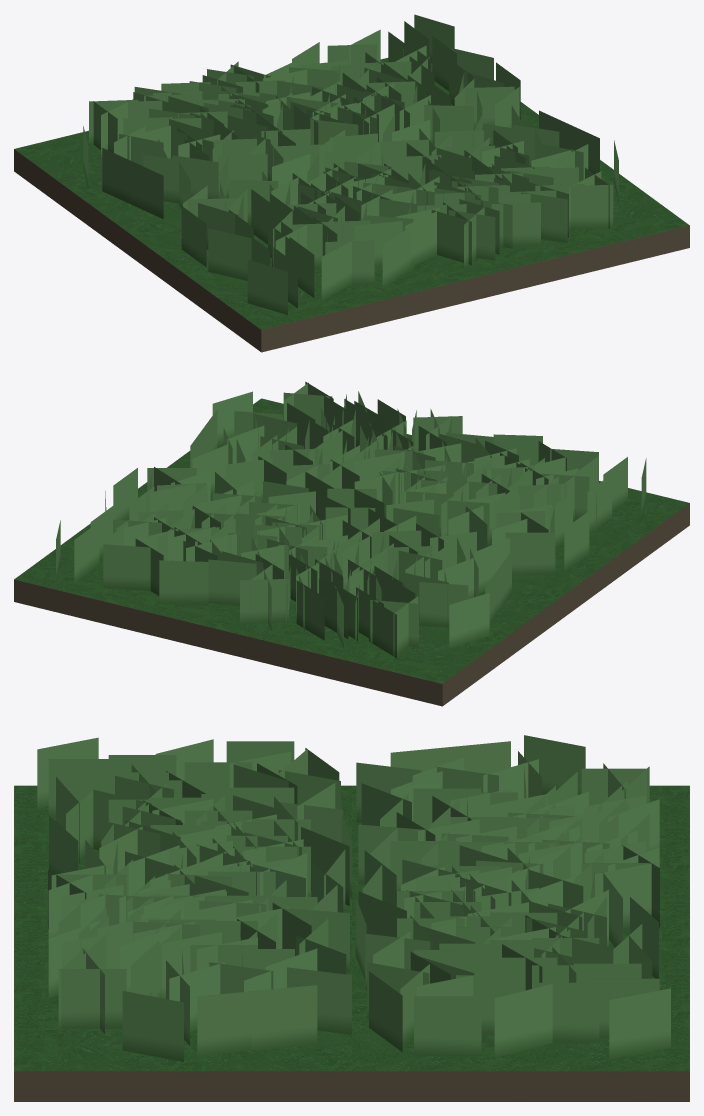
Rendered from Prop_Hatch_01.fbx.
3 renders of one model, top to bottom at view 1: azimuth 30°, elevation 25°; view 2: azimuth 150°, elevation 25°; view 3: azimuth 270°, elevation 25°, orthographic. The views are drawn at different scales.
Parts seen in each view (by area): view 1: Prop_GrassPlane_02, Prop_GrassPlane_01, Prop_HatchDoor_02, Prop_HatchDoor_01; view 2: Prop_GrassPlane_01, Prop_GrassPlane_02, Prop_HatchDoor_01, Prop_HatchDoor_02; view 3: Prop_GrassPlane_01, Prop_GrassPlane_02, Prop_HatchDoor_02, Prop_HatchDoor_01.
Part boxes in pixels (<box>): Prop_GrassPlane_02: <box>181,105,618,314</box>; Prop_GrassPlane_01: <box>83,14,520,219</box>; Prop_HatchDoor_02: <box>137,160,689,352</box>; Prop_HatchDoor_01: <box>14,58,538,261</box>; Prop_GrassPlane_01: <box>56,467,511,658</box>; Prop_GrassPlane_02: <box>190,381,646,574</box>; Prop_HatchDoor_01: <box>14,489,566,706</box>; Prop_HatchDoor_02: <box>138,398,689,615</box>; Prop_GrassPlane_01: <box>355,735,670,1059</box>; Prop_GrassPlane_02: <box>37,737,352,1061</box>; Prop_HatchDoor_02: <box>14,785,351,1101</box>; Prop_HatchDoor_01: <box>352,785,689,1101</box>.
Size of the model in its own units: 400 by 58.89 by 400.
